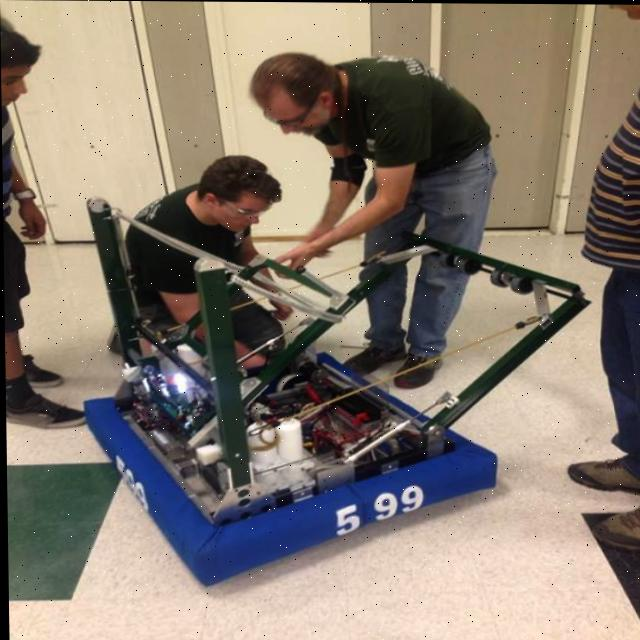robot: (68, 196, 595, 584)
